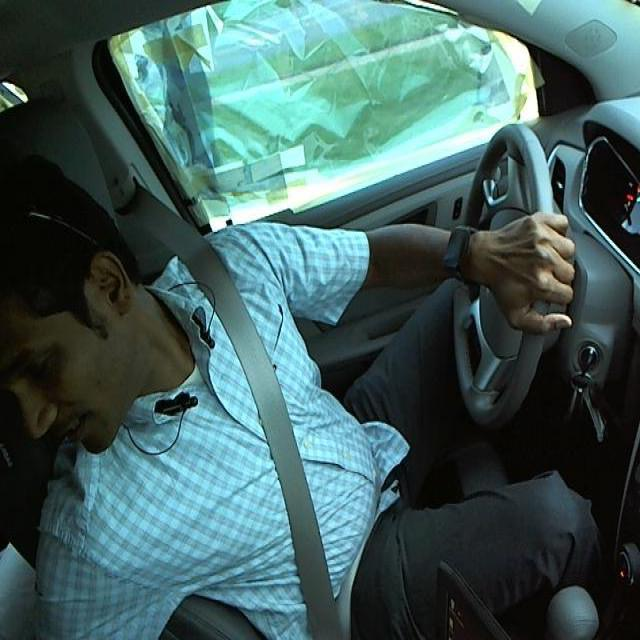seatbelt: (190, 272, 363, 628)
